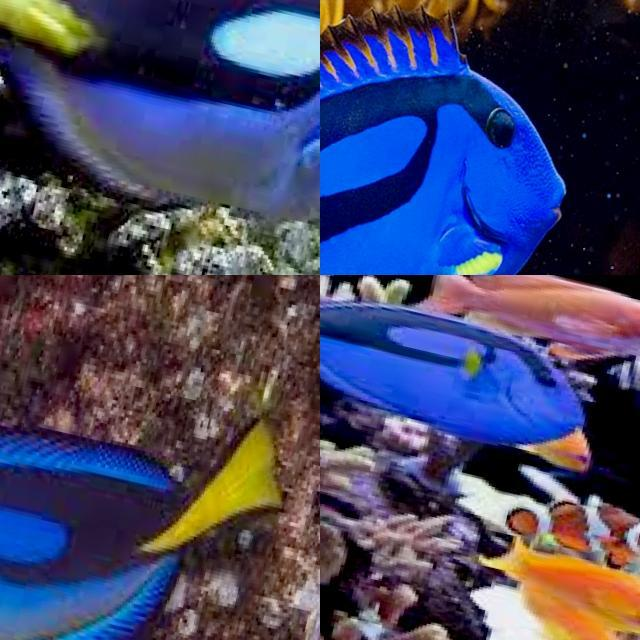BlueTang: (0, 406, 285, 635), (15, 0, 320, 208), (320, 22, 568, 275), (320, 308, 579, 441)
ClownFish: (503, 495, 640, 565)
